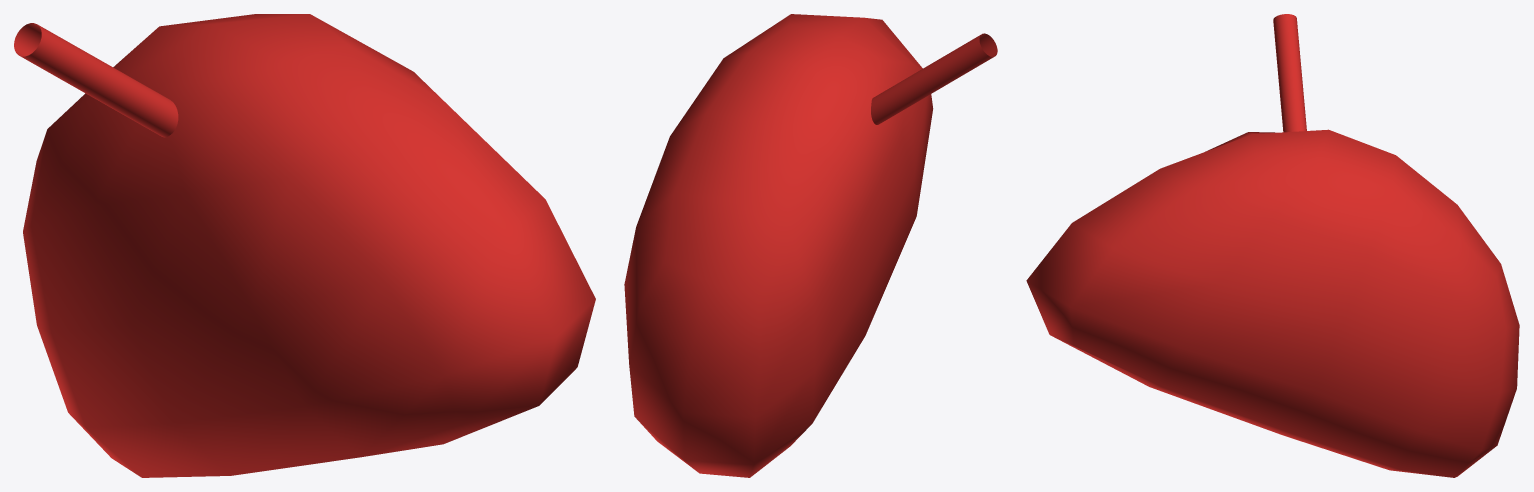
The model's file is circulatorio-cavernous-sinus-l.glb.
The picture shows the model from 3 angles, left to right: view 1: azimuth 30°, elevation 25°; view 2: azimuth 150°, elevation 25°; view 3: azimuth 270°, elevation 25°; orthographic projection. The views are drawn at different scales.
Visible parts, largest first — view 1: Cavernous sinus.l; view 2: Cavernous sinus.l; view 3: Cavernous sinus.l.
Part boxes in pixels (x1=…): Cavernous sinus.l: x1=14, y1=14, x2=595, y2=477; Cavernous sinus.l: x1=624, y1=14, x2=997, y2=477; Cavernous sinus.l: x1=1026, y1=14, x2=1519, y2=477.
Size of the model in its own units: 0.0133 by 0.0168 by 0.0197.
